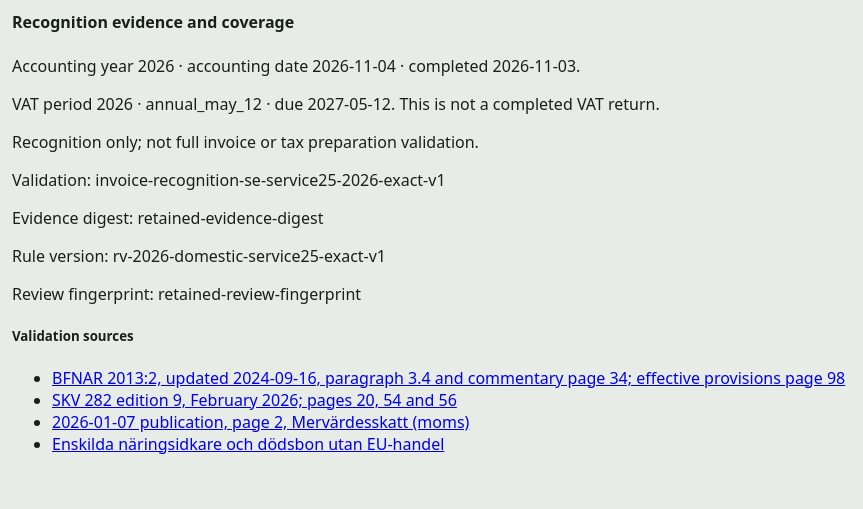
Test: InvoiceEligibilityEvidence sources › shows a source-opening failure without making an accounting mutation
Click the link named "BFNAR 2013:2, updated 2024-09-16, paragraph 3.4 and commentary page 34; effective provisions page 98" at (449, 378), box [52, 367, 845, 389]
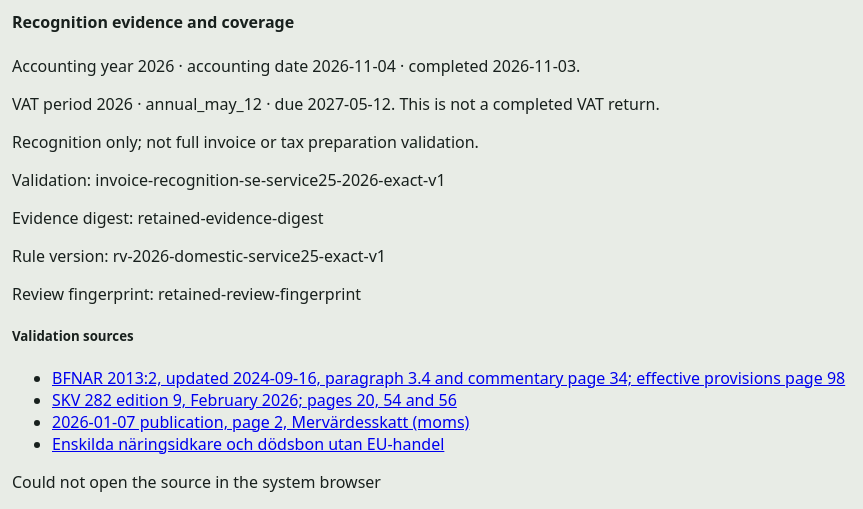
Check: the text "Evidence digest: retained-evidence-digest" is shown, box [12, 206, 323, 228]
Check: the message reads "Could not open the source in the system browser", box [12, 471, 381, 493]
